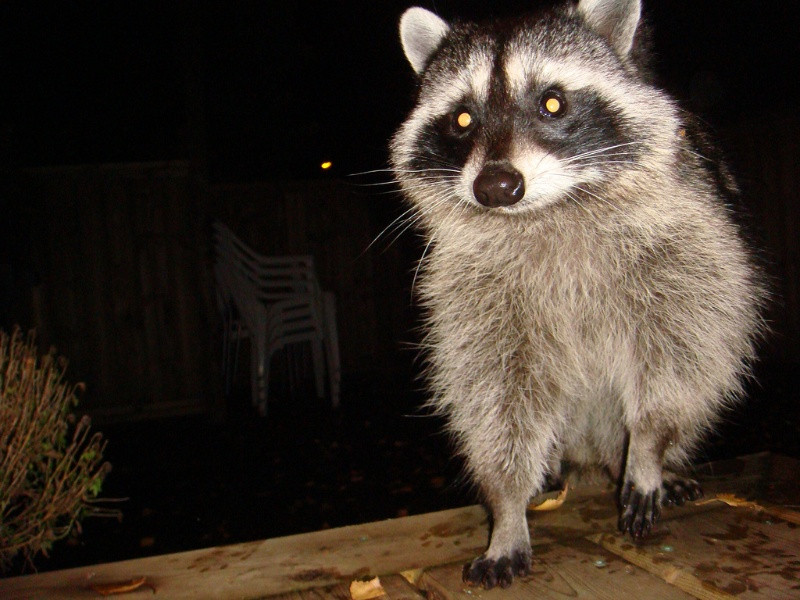raccoon: (387, 1, 753, 584)
